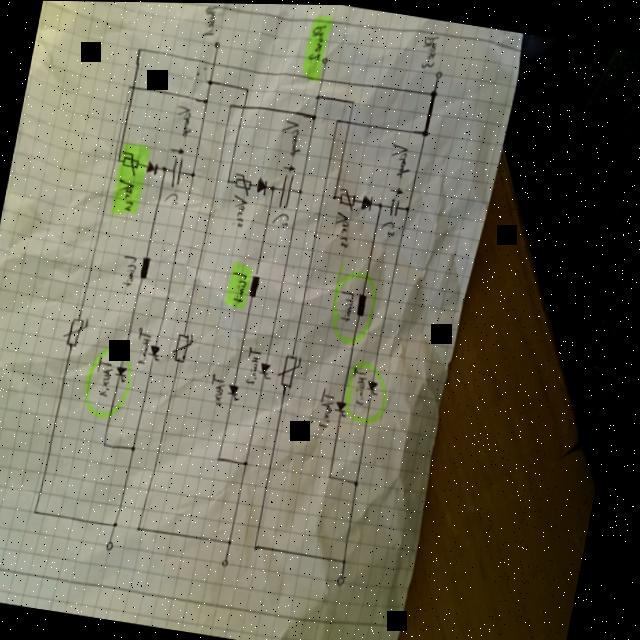capacitor: (279, 171, 296, 208), (169, 155, 185, 188), (389, 195, 403, 217)
crossover: (240, 102, 247, 111), (318, 74, 325, 82), (210, 59, 216, 67), (130, 83, 136, 90), (347, 118, 352, 126)
diode: (256, 176, 268, 195), (146, 158, 160, 174), (361, 192, 374, 209)
inductor: (250, 270, 263, 297), (357, 290, 371, 315), (140, 254, 153, 279)
junction: (421, 127, 431, 137), (429, 87, 438, 98), (133, 443, 141, 452), (104, 439, 112, 448), (310, 112, 318, 121), (161, 163, 168, 173), (203, 95, 210, 105), (257, 542, 264, 551), (206, 77, 213, 86), (314, 91, 321, 100), (270, 183, 277, 192), (356, 477, 363, 486), (332, 191, 339, 200), (135, 44, 142, 52), (349, 97, 356, 105), (405, 203, 412, 211), (345, 556, 352, 564), (231, 537, 237, 546), (378, 199, 384, 208), (245, 458, 252, 465), (219, 454, 226, 461), (139, 525, 146, 532), (116, 520, 123, 527), (36, 508, 42, 516), (298, 187, 304, 195), (190, 170, 196, 177), (126, 83, 132, 89), (334, 116, 340, 122), (116, 156, 121, 163), (228, 101, 233, 107), (226, 177, 231, 183), (244, 85, 249, 91), (331, 473, 336, 479)
terminal: (340, 572, 351, 587), (109, 538, 120, 551), (212, 38, 221, 50), (434, 68, 443, 79), (225, 557, 234, 568), (321, 55, 328, 64)
text: (276, 116, 306, 158), (94, 354, 119, 397), (386, 141, 415, 178), (319, 384, 341, 428), (331, 209, 356, 247), (244, 343, 266, 385), (170, 103, 196, 137), (351, 364, 373, 404), (417, 31, 439, 69), (227, 191, 250, 227), (114, 177, 138, 211), (306, 21, 326, 61), (134, 325, 154, 365), (209, 371, 231, 407), (228, 269, 250, 304), (119, 253, 141, 288), (337, 289, 358, 322), (199, 2, 218, 37), (272, 209, 293, 228), (380, 218, 399, 236), (164, 190, 181, 206)
thyristor: (336, 398, 351, 416), (116, 364, 131, 382), (229, 382, 243, 401), (150, 343, 164, 361), (260, 361, 274, 378), (368, 378, 382, 395)
